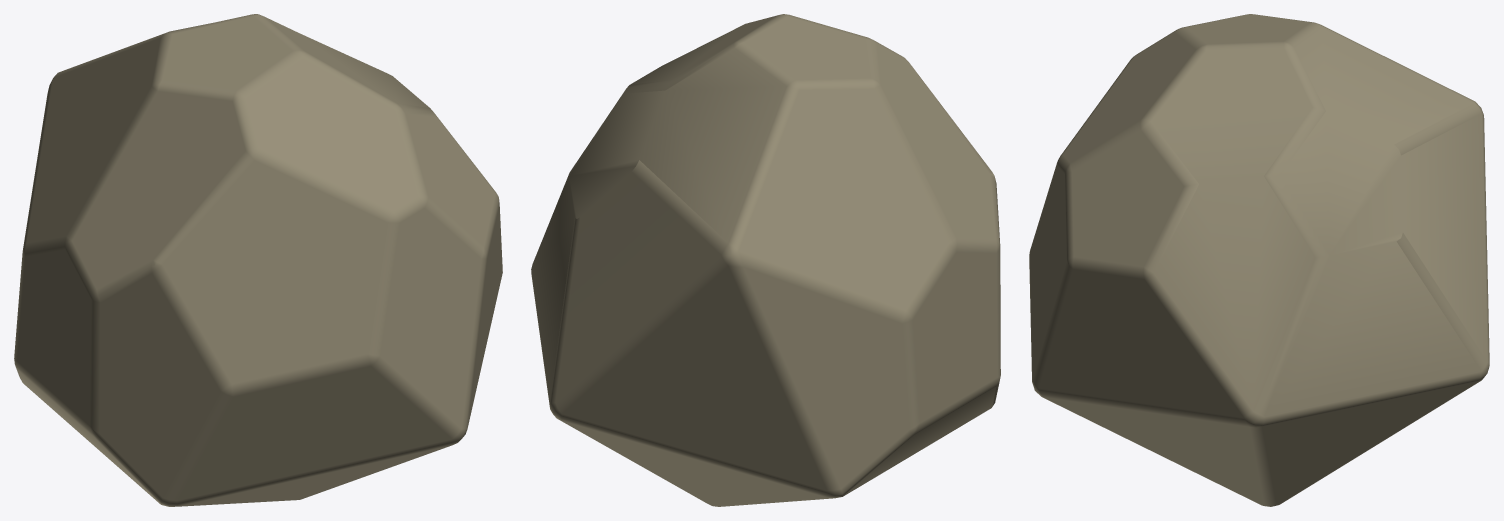
The model's file is Stone.fbx.
The picture shows the model from 3 angles, left to right: view 1: azimuth 30°, elevation 25°; view 2: azimuth 150°, elevation 25°; view 3: azimuth 270°, elevation 25°; orthographic projection. The views are drawn at different scales.
Parts seen in each view (by area): view 1: Icosphere; view 2: Icosphere; view 3: Icosphere.
Part boxes in pixels (x1,y1,x2,y2): Icosphere: (14,14,502,506); Icosphere: (531,14,1000,506); Icosphere: (1029,14,1489,506).
Size of the model in its own units: 271 by 285 by 265.
